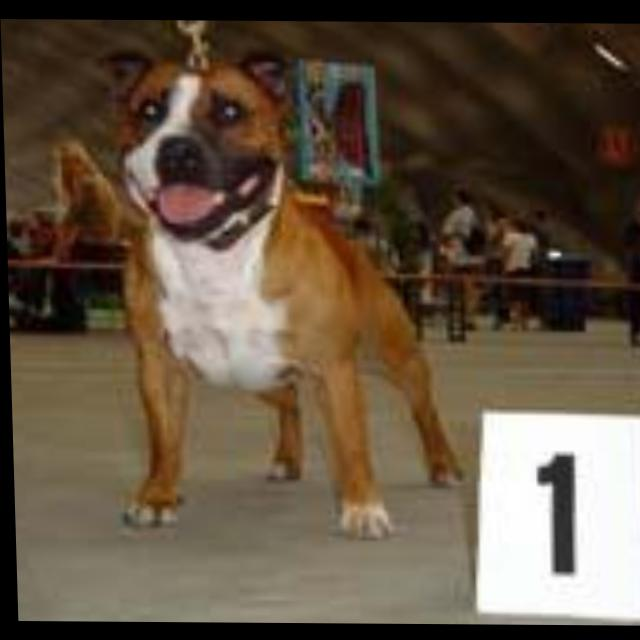staffford: (96, 44, 461, 542)
